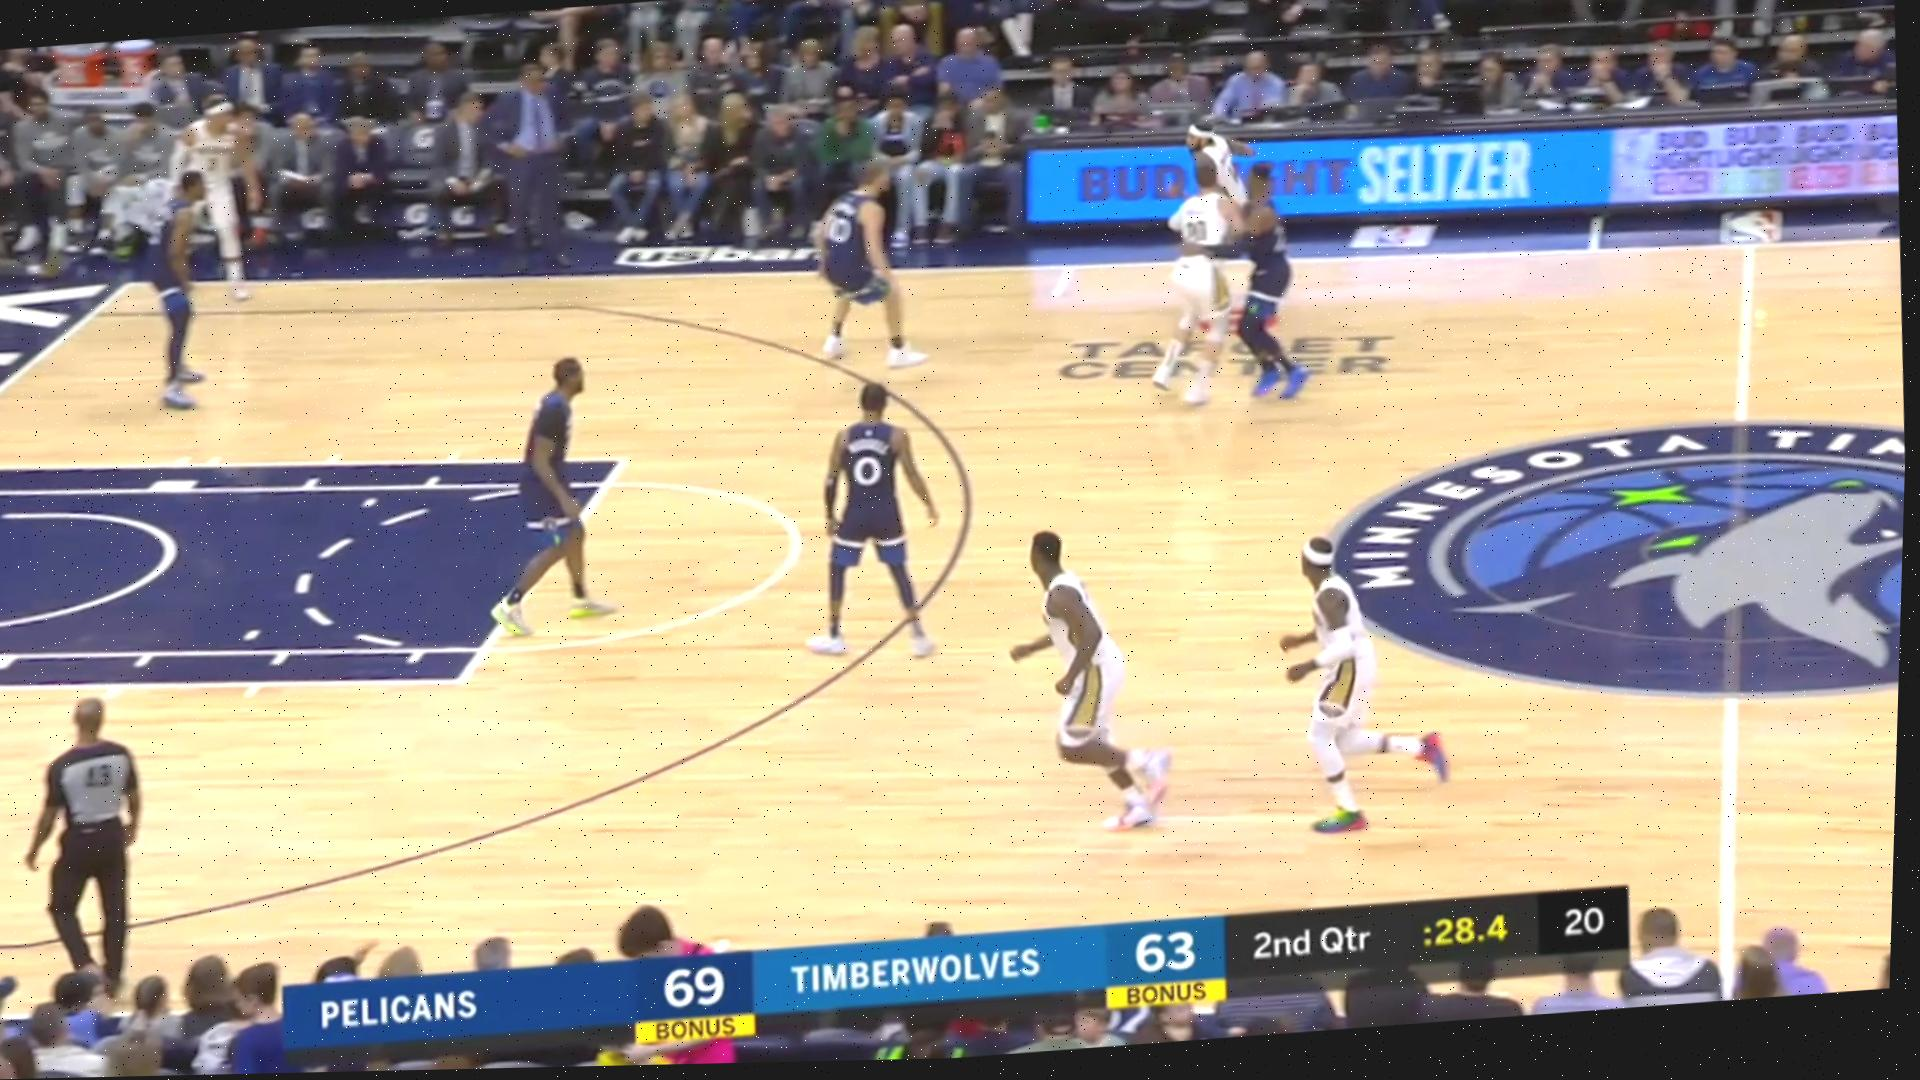no_foul: (1166, 150, 1304, 392)
